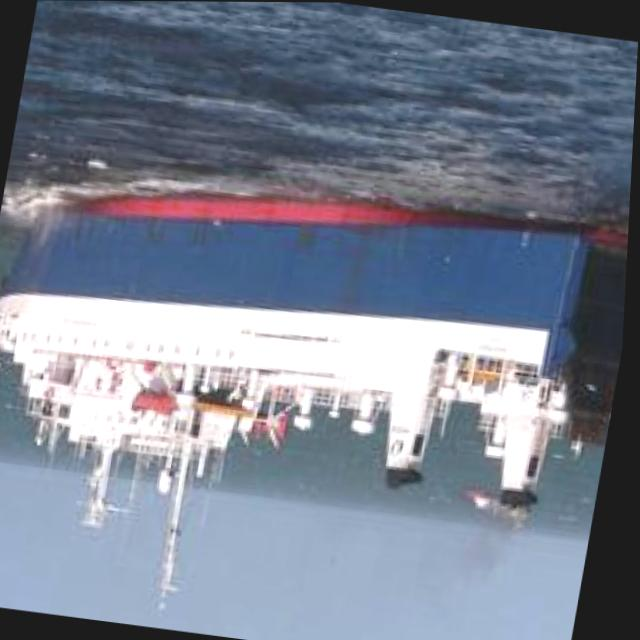ship2: (0, 188, 631, 586)
